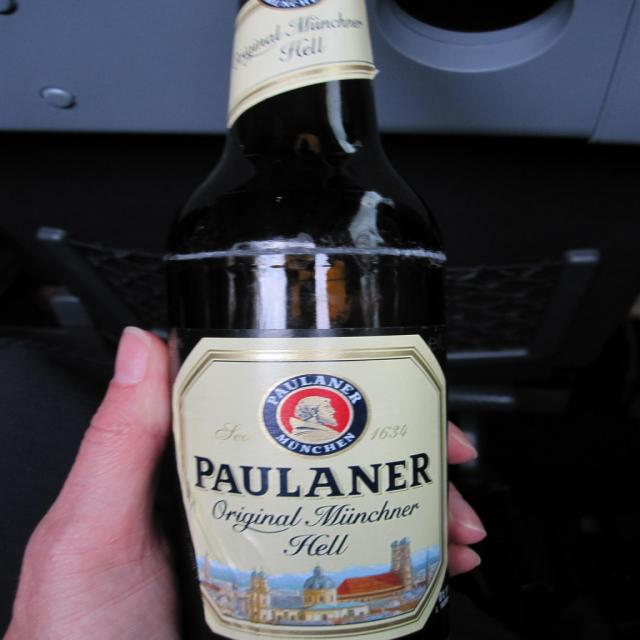paulaner: (260, 372, 370, 458)
